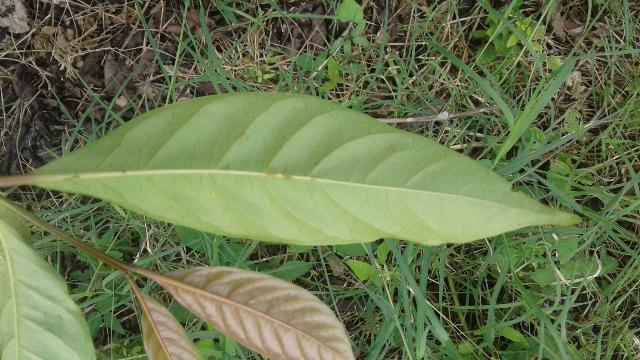rust_level_1: (29, 89, 598, 249)
